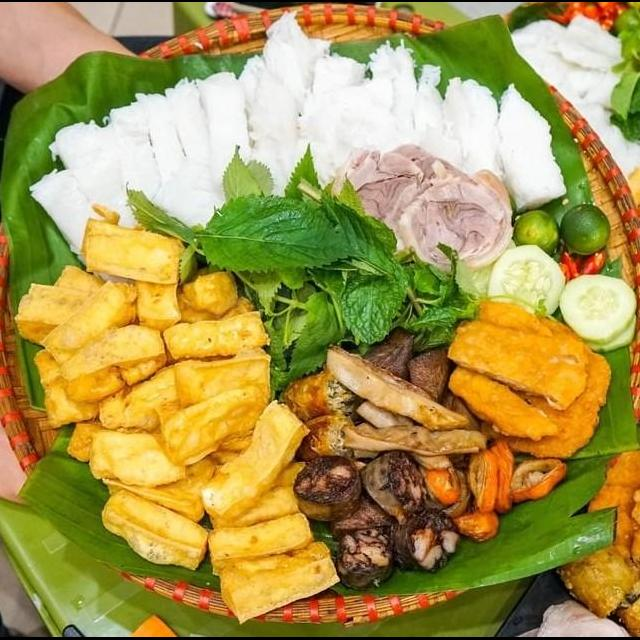bun: (23, 8, 576, 264), (508, 12, 640, 187)
bun dau: (0, 34, 640, 637)
cha com: (443, 294, 617, 466)
cha gio: (279, 361, 373, 468), (554, 544, 640, 637)
dau hu: (190, 393, 315, 528), (150, 378, 274, 472), (213, 540, 344, 628), (34, 274, 143, 370), (94, 446, 224, 526), (56, 318, 169, 408), (97, 486, 214, 572), (73, 212, 193, 290), (201, 506, 320, 580), (83, 422, 194, 491), (168, 344, 277, 414), (157, 306, 278, 368), (9, 278, 108, 352), (29, 342, 108, 433), (166, 266, 258, 326), (130, 256, 186, 334)
doi sun: (355, 446, 432, 530), (381, 504, 464, 580), (288, 452, 366, 526), (330, 522, 399, 594)
thit heo: (320, 136, 523, 282)
